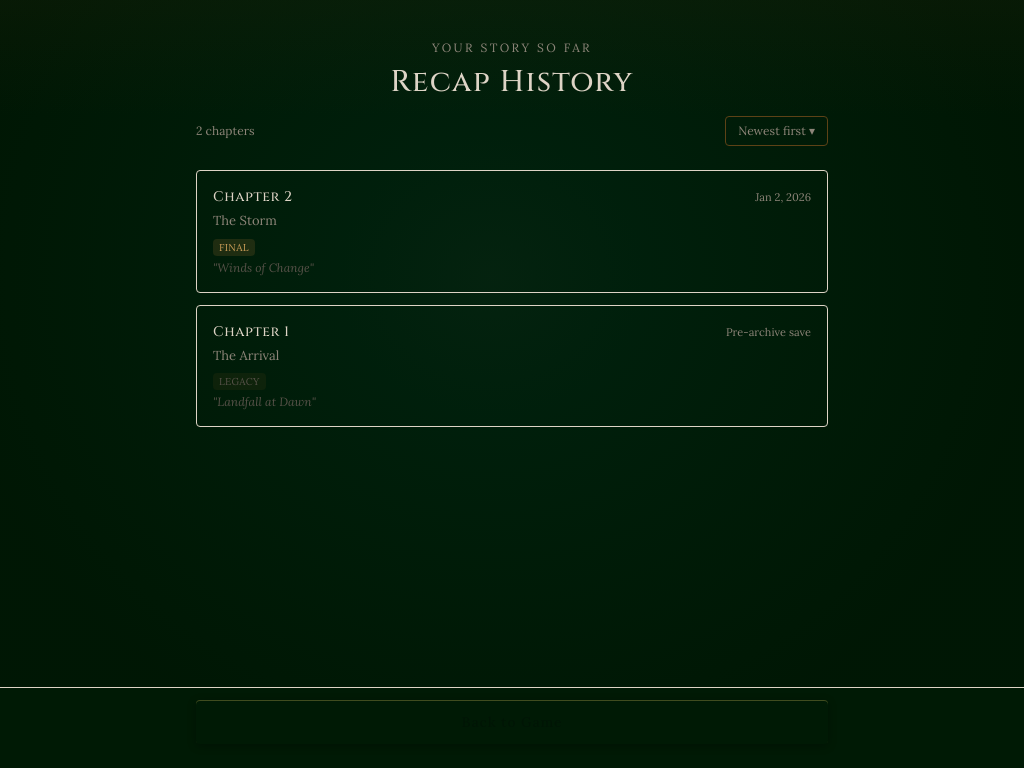
Scenario: RecapHistoryScreen › opens detail view when clicking a summary card
Note: Click the "The Arrival" card (chapter 1).
What coordinates should you click on to do the following:
click the text "The Arrival"
I would click on:
 (246, 355)
Its box is top-left (213, 346), bottom-right (279, 364).
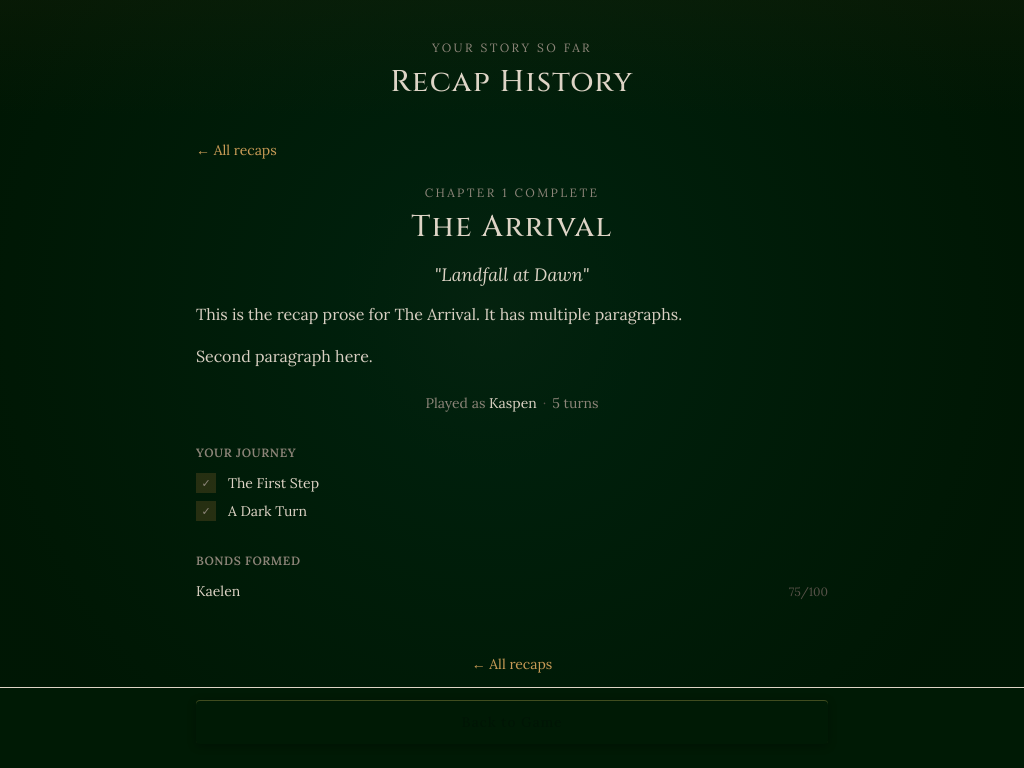
Result: the text "recap prose for The Arrival" is shown at top-left (196, 304), bottom-right (682, 324)
Result: the text "Played as Kaspen·5 turns" is shown at top-left (426, 394), bottom-right (598, 412)
Result: the text "The First Step" is shown at top-left (228, 473), bottom-right (319, 493)
